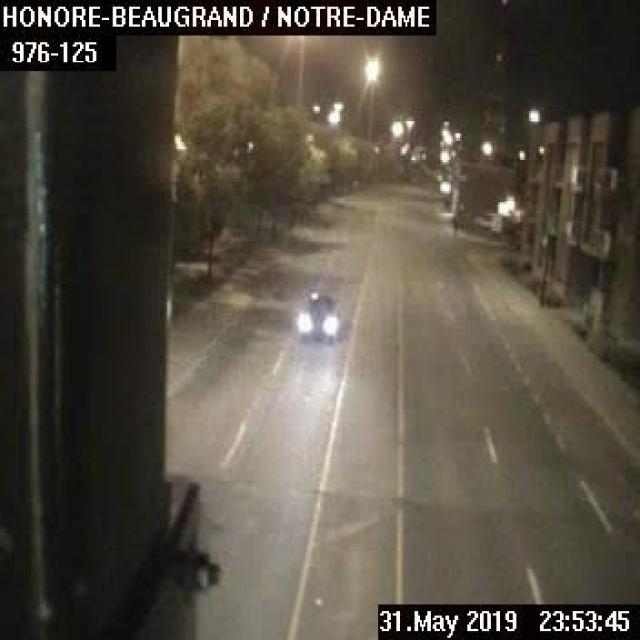vehicle: (295, 291, 340, 338)
